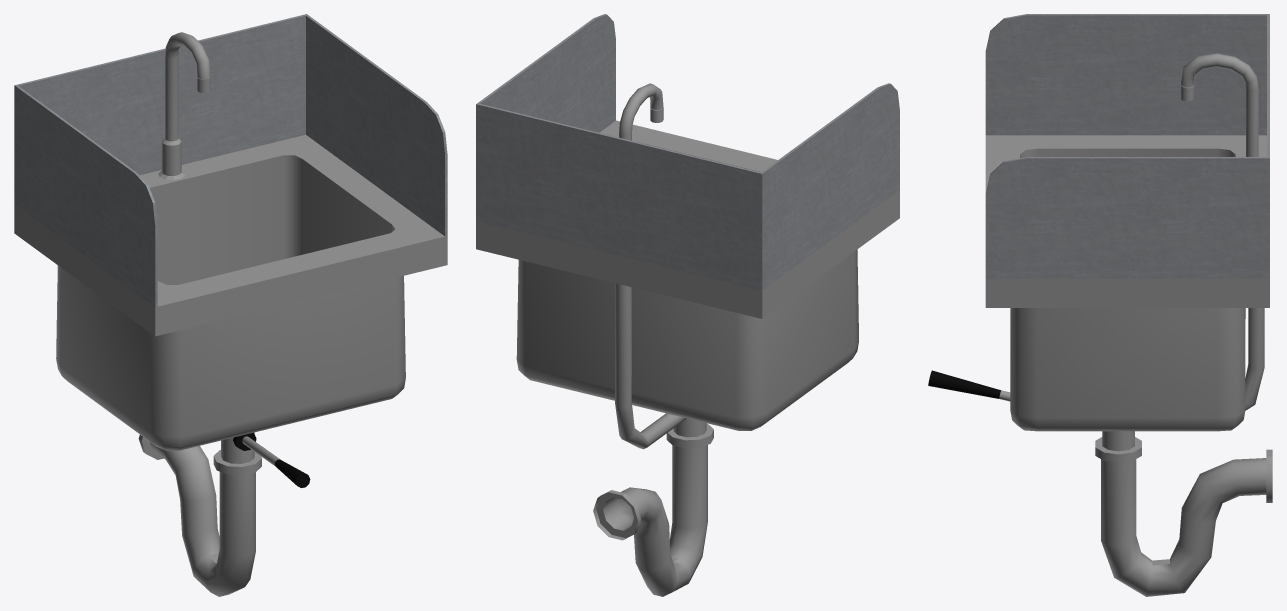
The model's file is kitchen_sink.FBX.
The picture shows the model from 3 angles, left to right: view 1: azimuth 30°, elevation 25°; view 2: azimuth 150°, elevation 25°; view 3: azimuth 270°, elevation 25°; orthographic projection. The views are drawn at different scales.
Parts seen in each view (by area): view 1: kitchen_sink; view 2: kitchen_sink; view 3: kitchen_sink.
Boxes of the visible parts, bbox=[...] form: kitchen_sink: bbox=[14, 14, 447, 596]; kitchen_sink: bbox=[476, 14, 899, 596]; kitchen_sink: bbox=[928, 14, 1272, 596].
Bounding box in the file's own units: 61.39 × 107 × 61.95.
